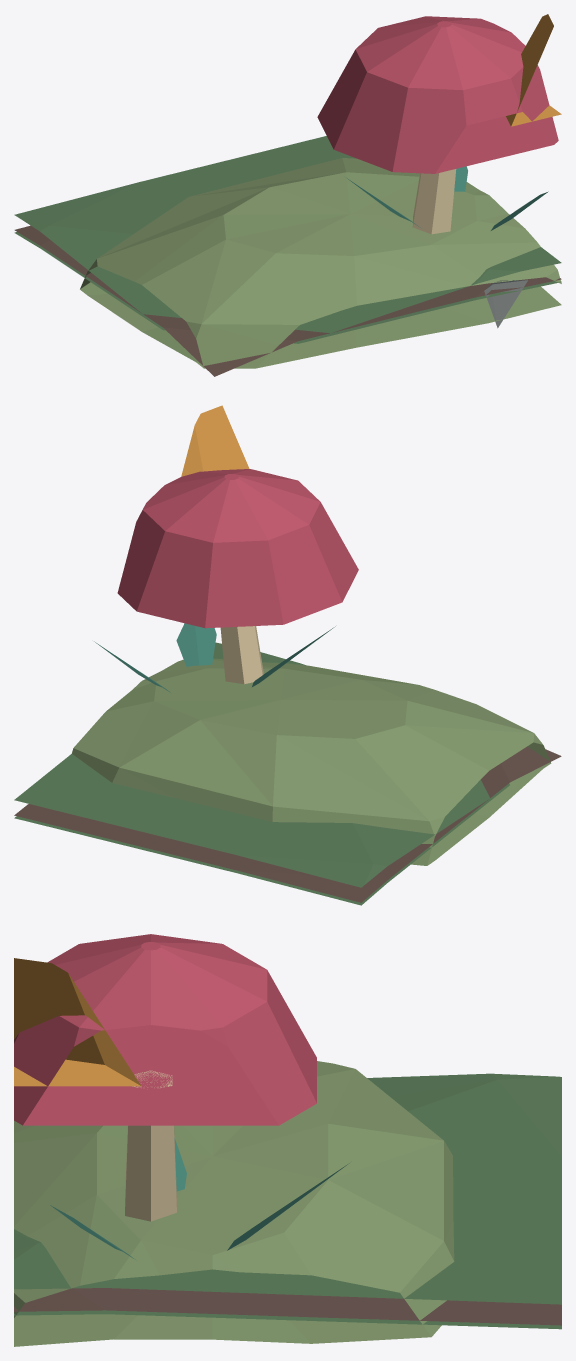
File: cell_042.obj
3 renders of one model, top to bottom at view 1: azimuth 30°, elevation 25°; view 2: azimuth 150°, elevation 25°; view 3: azimuth 270°, elevation 25°, orthographic. The views are drawn at different scales.
Size of the model in its own units: 1 by 0.7944 by 1.
